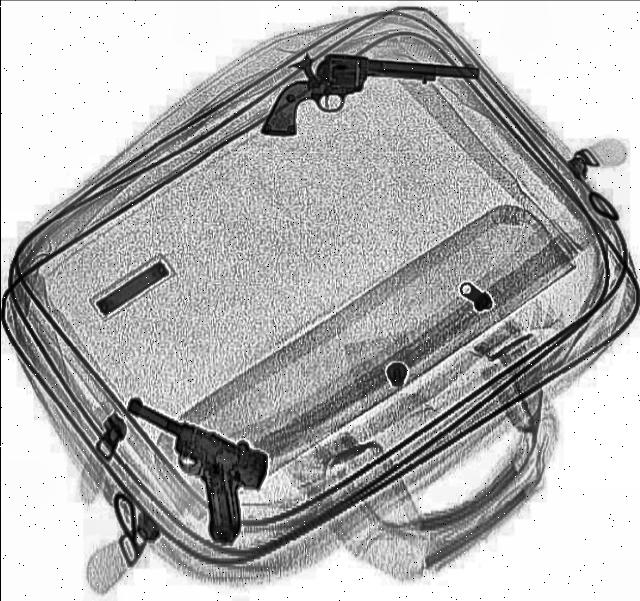Gun: (80, 394, 282, 550), (260, 47, 478, 154)
